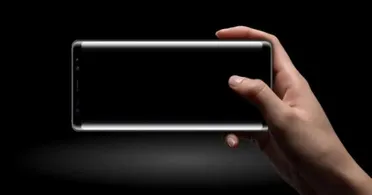Phone: (69, 38, 276, 135)
